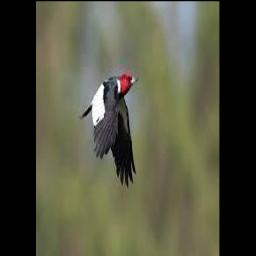Woodpecker: (79, 72, 138, 187)
